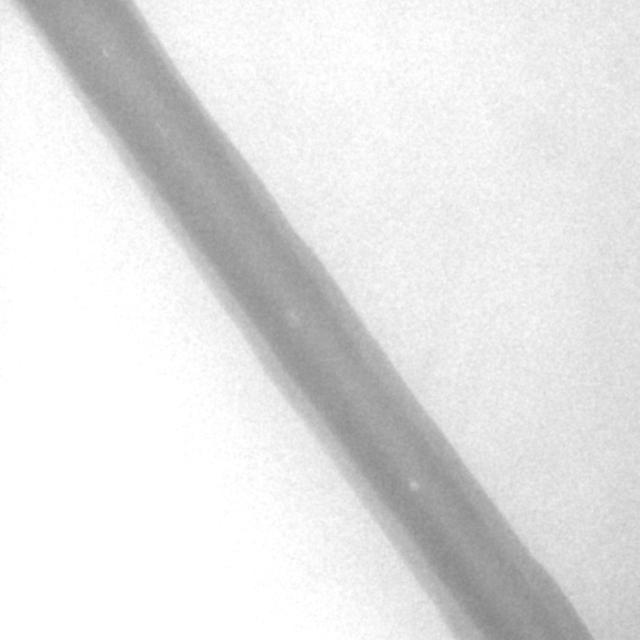air hole: (407, 478, 421, 494)
